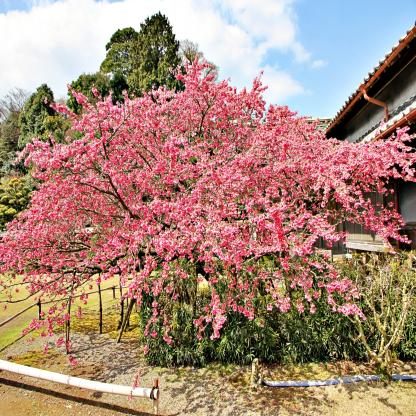KanhiSakura: (0, 55, 416, 401)
